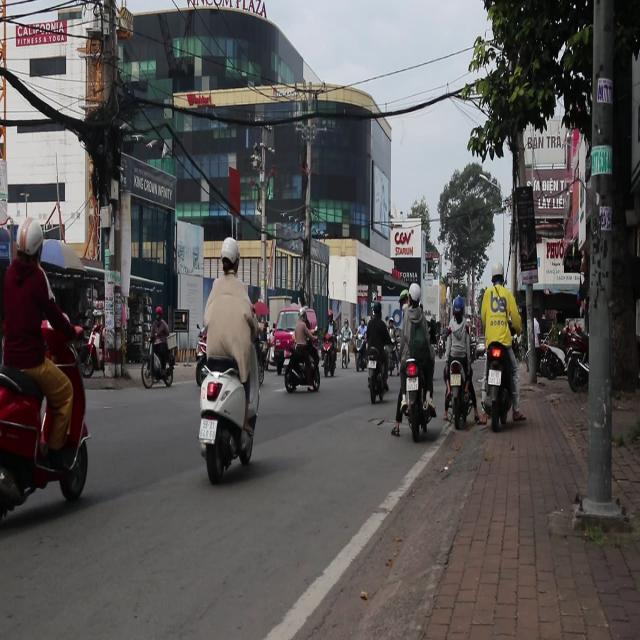motorbike: (0, 327, 95, 517), (197, 358, 256, 486), (401, 356, 433, 444), (485, 338, 513, 432), (137, 332, 177, 390), (282, 340, 322, 398), (444, 354, 471, 434), (563, 326, 591, 394), (363, 338, 389, 404), (532, 332, 567, 381), (194, 328, 208, 388), (338, 332, 352, 372), (324, 340, 334, 375)
truck: (268, 313, 300, 376)
